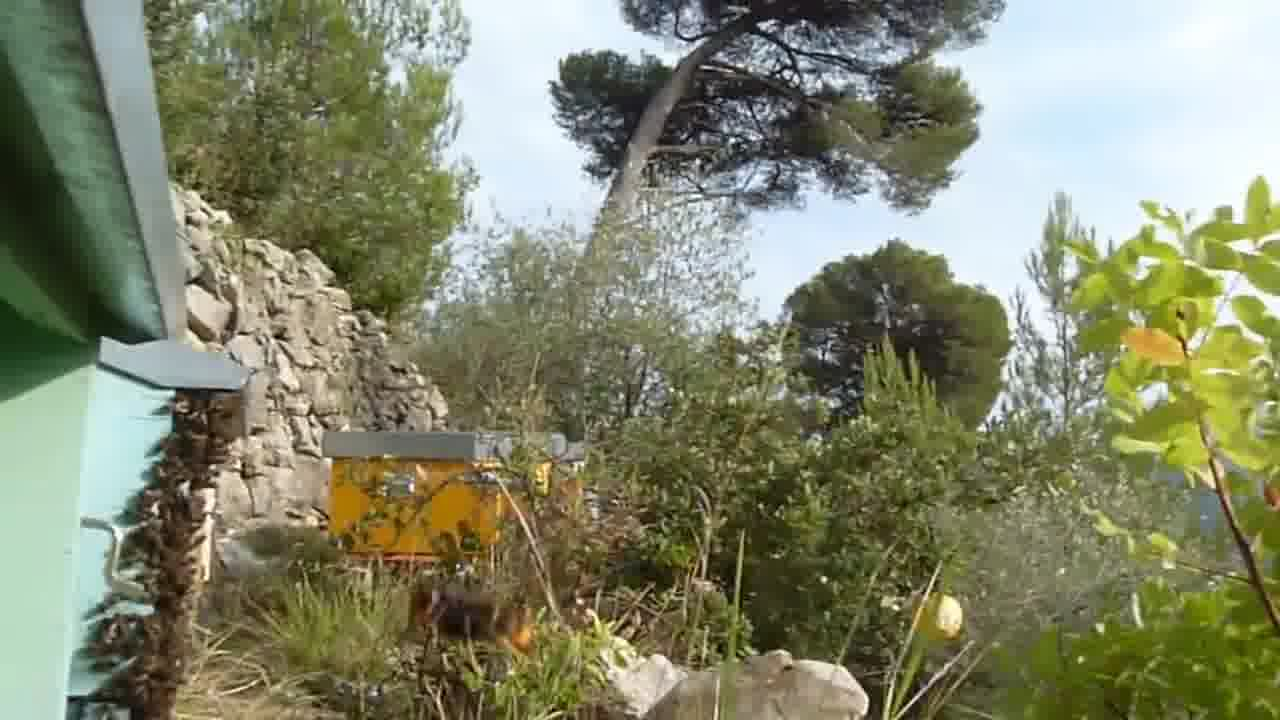bee: (80, 609, 194, 702), (148, 389, 243, 483), (125, 486, 187, 539), (147, 544, 209, 596)
hornet: (399, 579, 554, 662)
